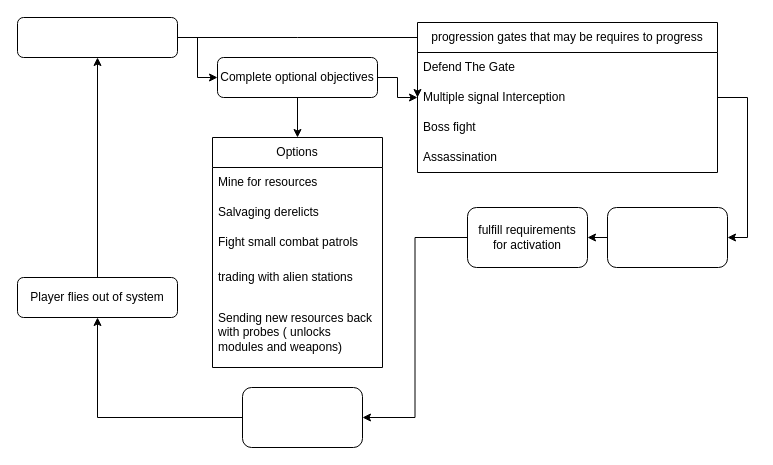
This 773x465 diagram has some shape labels left out. Each missing label, with the box of its shape:
Fly to Warp Gate: (242, 386, 362, 448)
minimum 1 minute combat for warp gate chart: (606, 206, 728, 268)
Player Flies into system: (16, 16, 178, 58)
